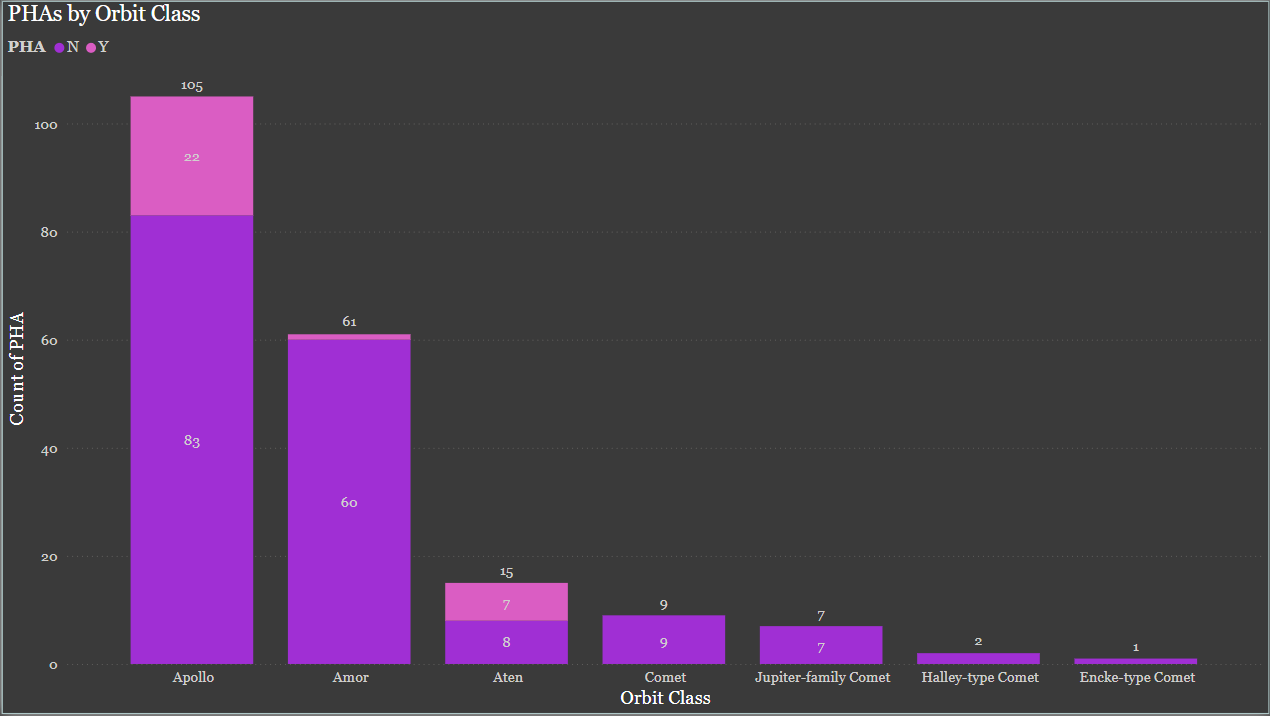

Layout of this report page (visuals, bound fields, positions):
{"tool":"powerbi","page":{"name":"PHAs by Orbit Class","canvas":[1280,720],"ordinal":5},"visuals":[{"type":"columnChart","title":"PHAs by Orbit Class","fields":{"Category":["NEOs_cleaned.Orbit Class"],"Series":["NEOs_cleaned.PHA"],"Y":["CountNonNull(NEOs_cleaned.PHA)"]},"box":[0,0,1280,720],"z":0}]}

Visuals, with their boxes in screenshot pixels (x1, y1, x2, y2), scaled from the page's 1280x720 canvas onto the 1270x716 screenshot:
"PHAs by Orbit Class" columnChart: l=0, t=0, r=1269, b=715
